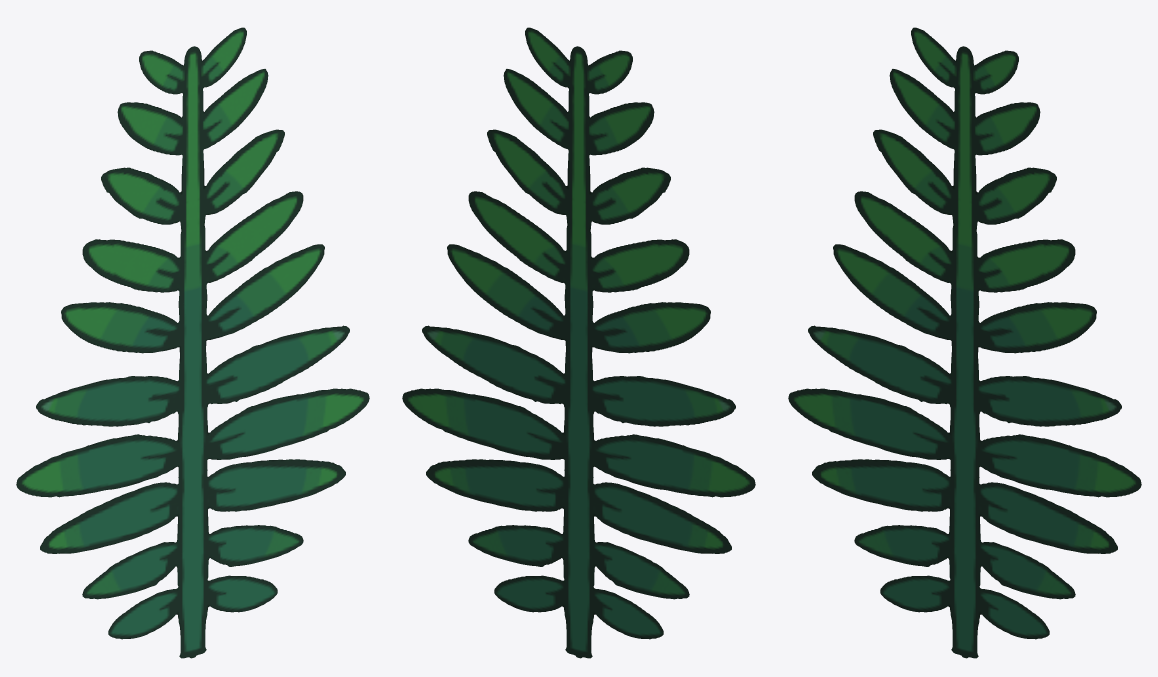
Rendered from HojaF.fbx.
3 views of the same model, side by side, from view 1: azimuth 30°, elevation 25°; view 2: azimuth 150°, elevation 25°; view 3: azimuth 330°, elevation 25° (orthographic).
Parts seen in each view (by area): view 1: HojaF; view 2: HojaF; view 3: HojaF.
Boxes of the visible parts, x1,y1,x2,y2 form: HojaF: [16, 27, 369, 658]; HojaF: [402, 27, 755, 658]; HojaF: [788, 27, 1141, 658].
Size of the model in its own units: 0.5075 by 0.8449 by 3.69e-08.
